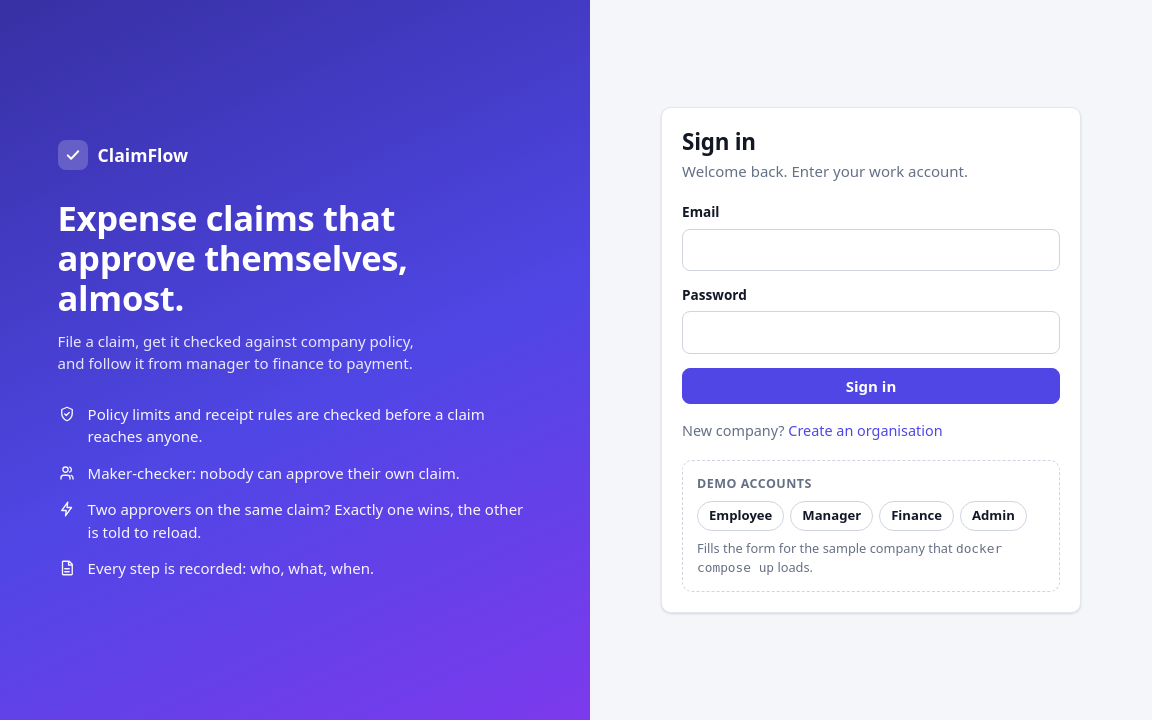
Test: LoginPage › demo chips fill in the credentials
Click the button "Finance" at (917, 516), box x1=879 y1=501 x2=954 y2=531
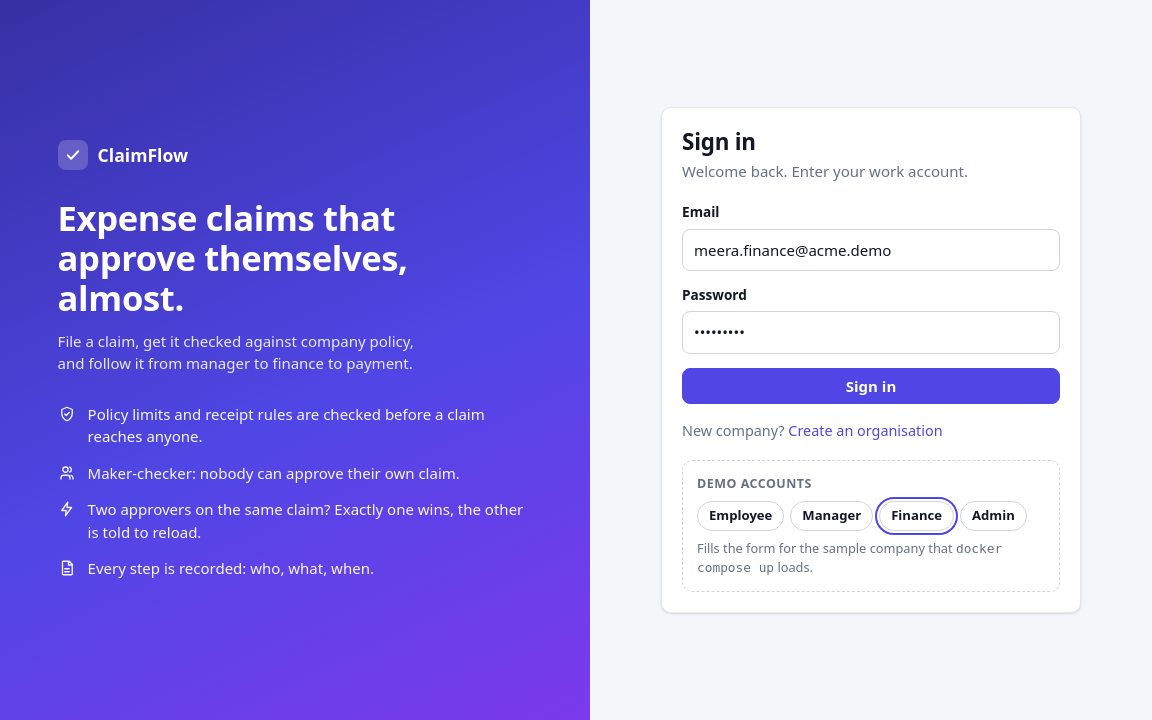
Check: the field labelled "Email" holds "meera.finance@acme.demo", box x1=682 y1=228 x2=1060 y2=271
Check: the password field labelled "Password" holds "Demo@1234", box x1=682 y1=311 x2=1060 y2=354
